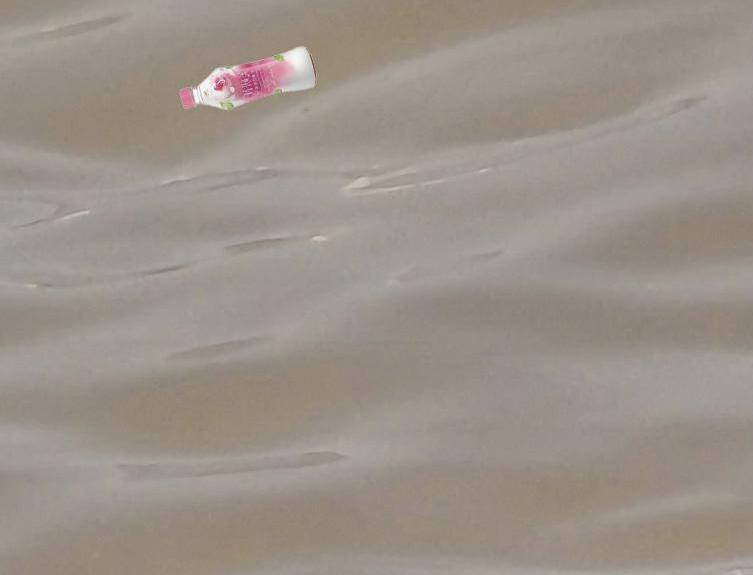Plastic: (177, 46, 318, 113)
